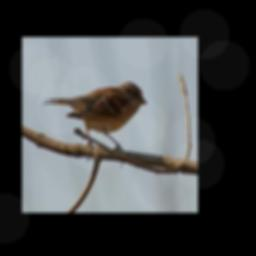Sparrow: (41, 80, 149, 167)
